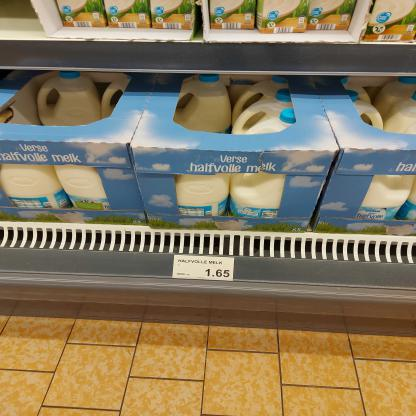prtg: (173, 255, 235, 282)
